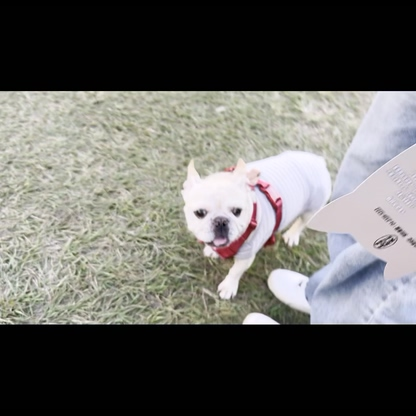bulldog: (174, 146, 335, 302)
